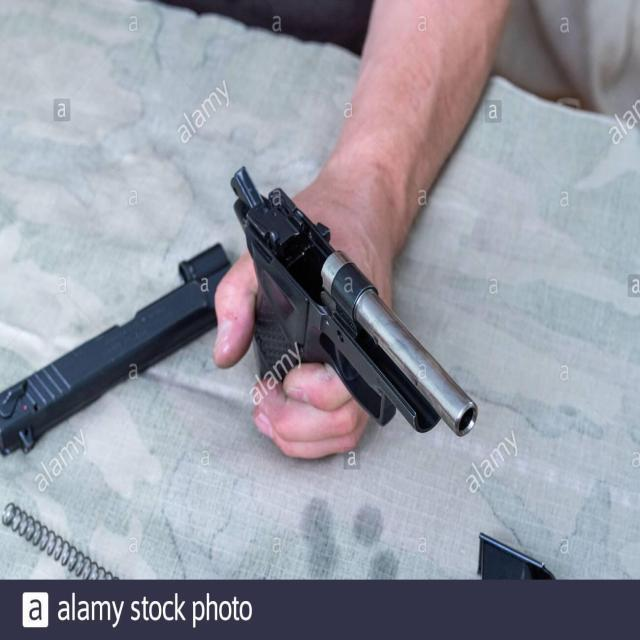Handgun: (227, 162, 482, 458)
